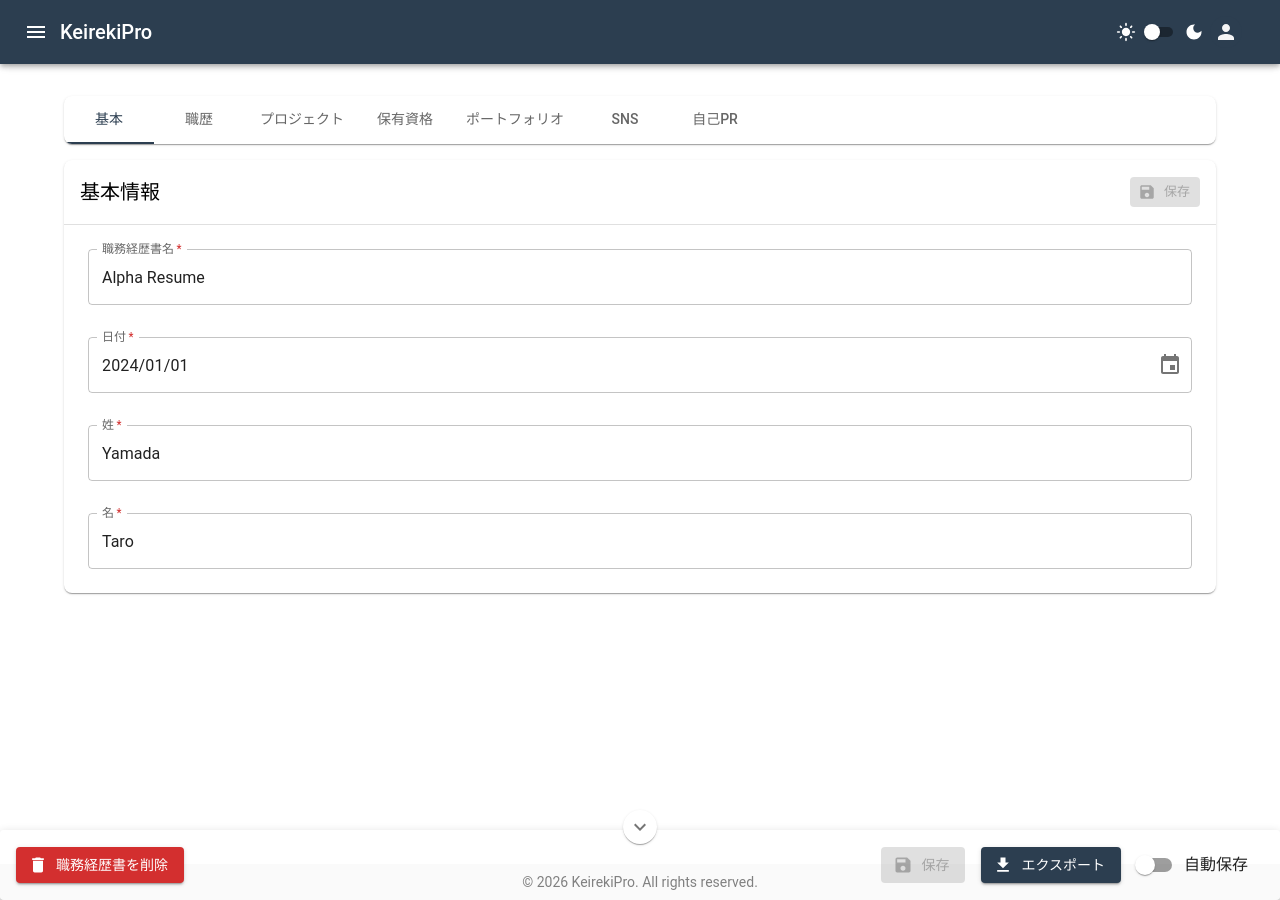
Scenario: resume editor › 詳細画面でMarkdownエクスポート対象が存在しない場合は一覧画面へ遷移すること
The image size is (1280, 900).
Click the button "エクスポート": {"x": 1051, "y": 865} [981,847,1121,883]
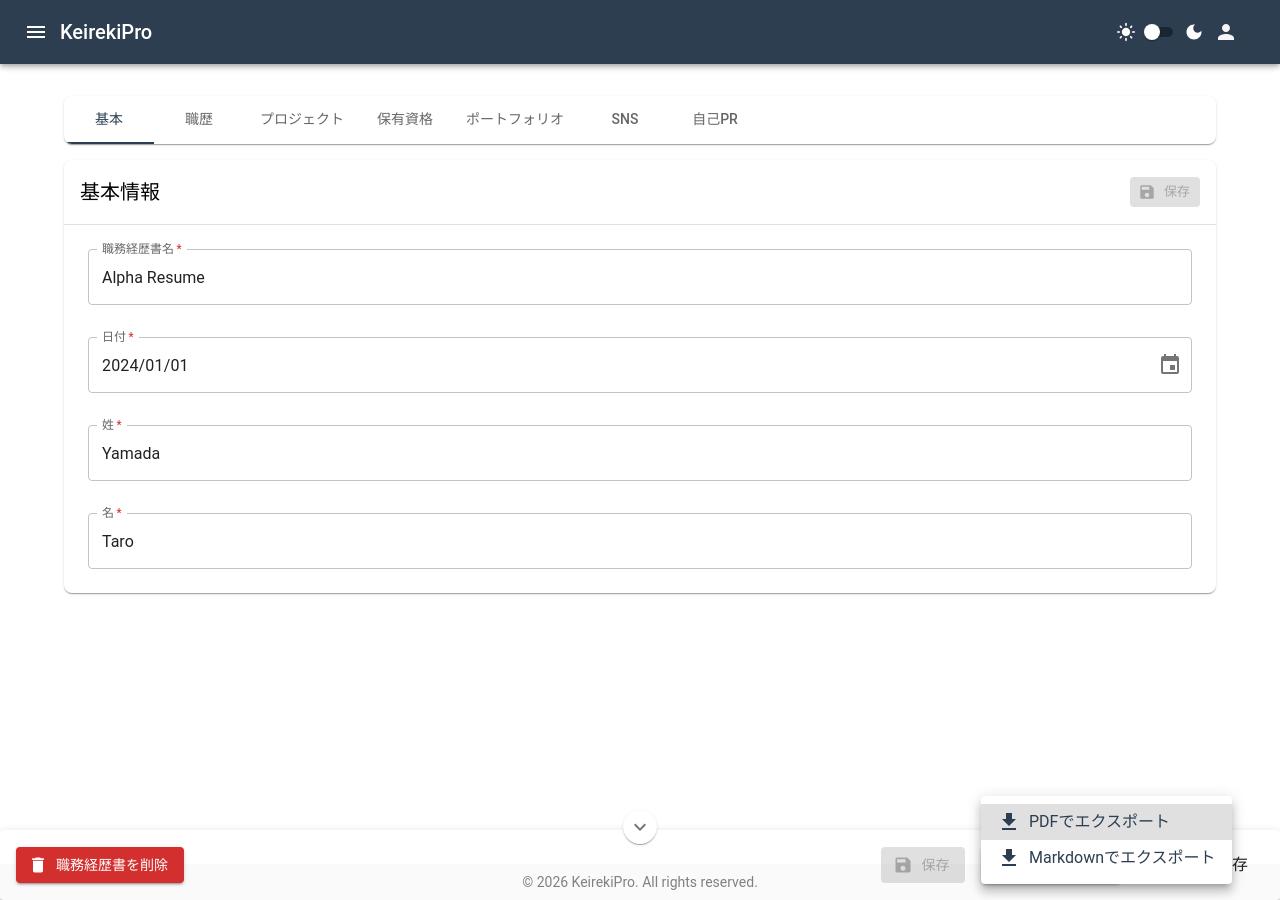
Click the menu item "Markdownでエクスポート": {"x": 1106, "y": 858} [981,840,1232,876]
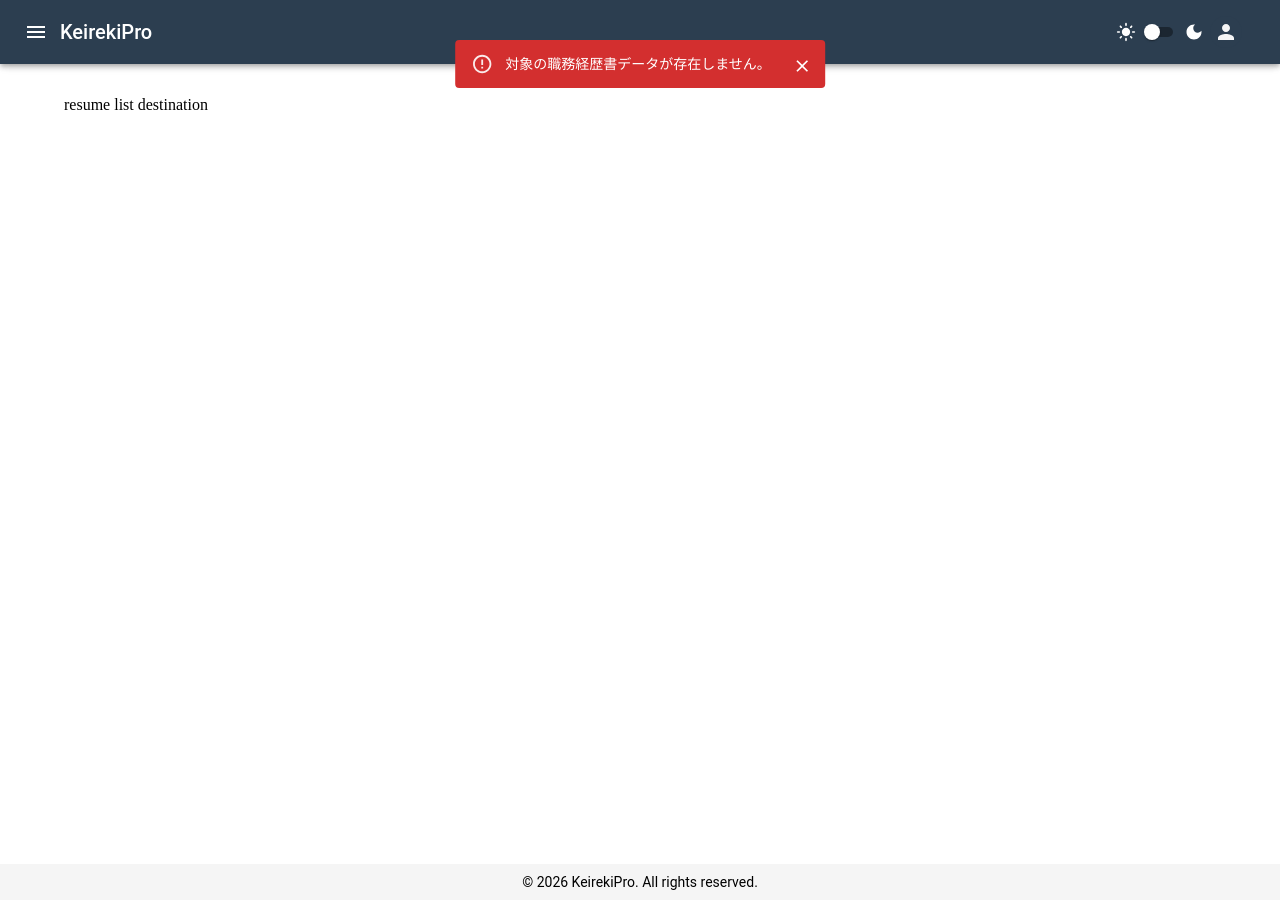
Now the text "resume list destination" is shown, box [64,96,208,113]
Now the text "対象の職務経歴書データが存在しません。" is shown, box [505,56,771,72]
